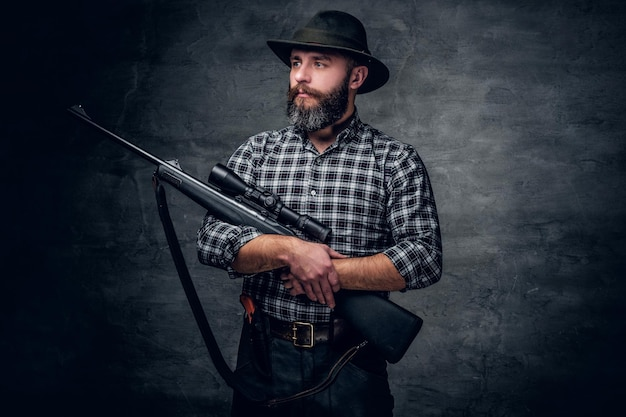gun: (63, 105, 426, 366)
